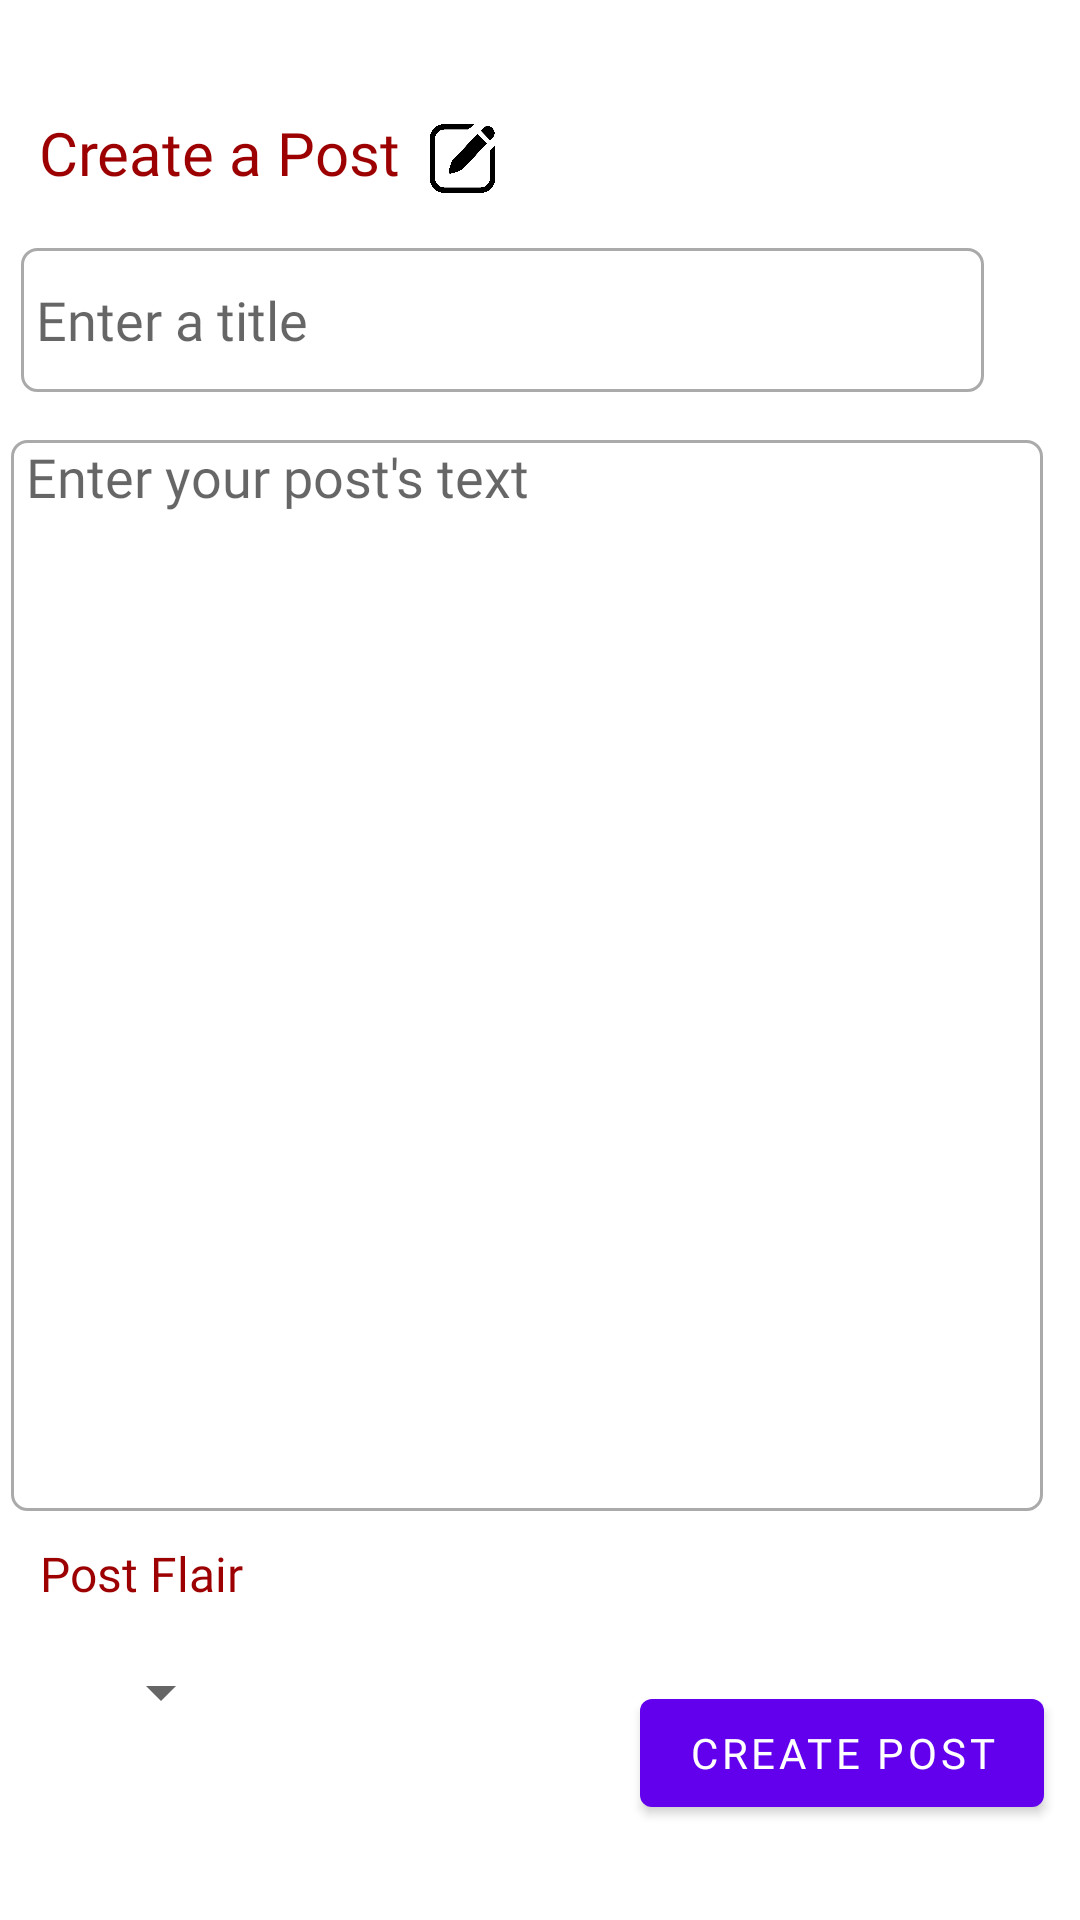

Icons on this 1080*1920 Android screen, each with the point to tap as (x,y):
add post: (462,158)
